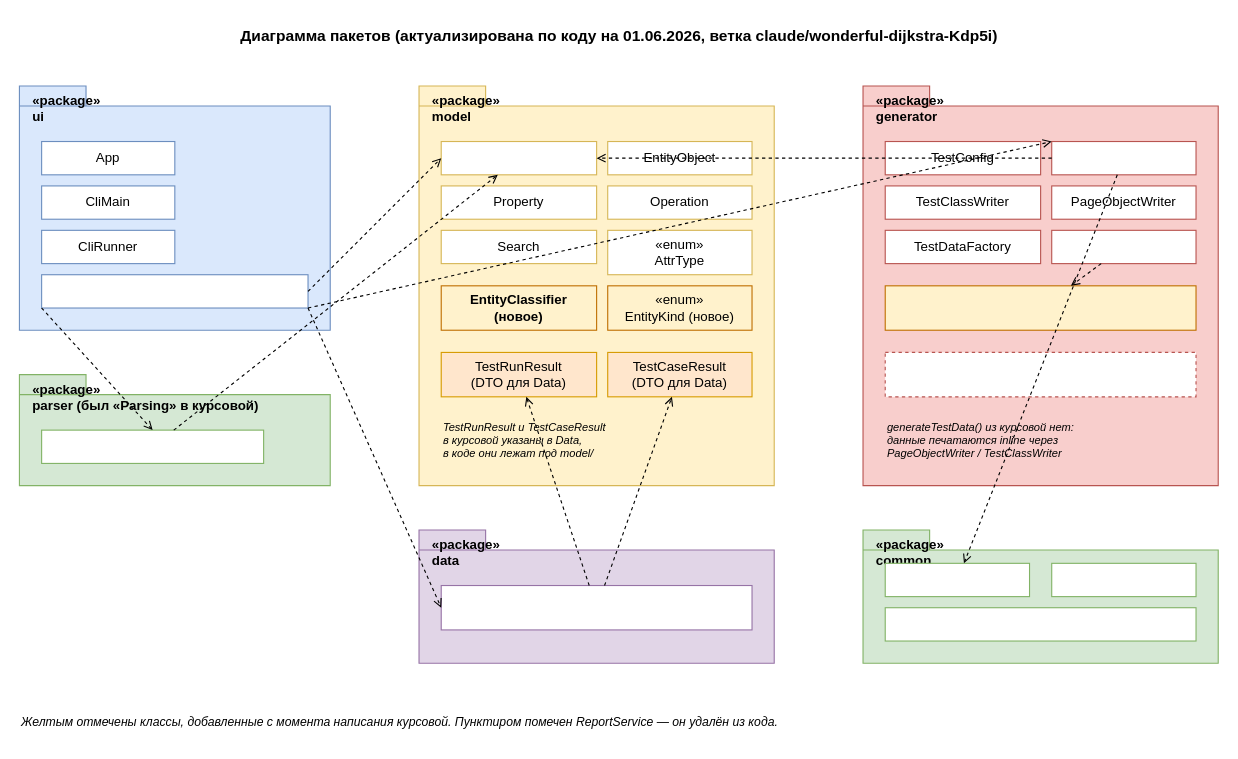
Image size: 1238x759. Some labels were removed from this diagram. The centre of each missing label's shape, as x and y in pixels:
"AppModel" goes at (518,157).
"JavaFileWriter" goes at (957,579).
"MainController" goes at (174,291).
"ParserException" goes at (1040,624).
"ReportDao" goes at (596,607).
"ReportService (удалён из кода — был в курсовой)" goes at (1040,374).
"RunReportWriter (новое)" goes at (1040,307).
"TestGenerator" goes at (1123,157).
"TestRunner" goes at (1123,246).
"Transliterator" goes at (1123,579).
"XmlModelParser" goes at (152,446).
